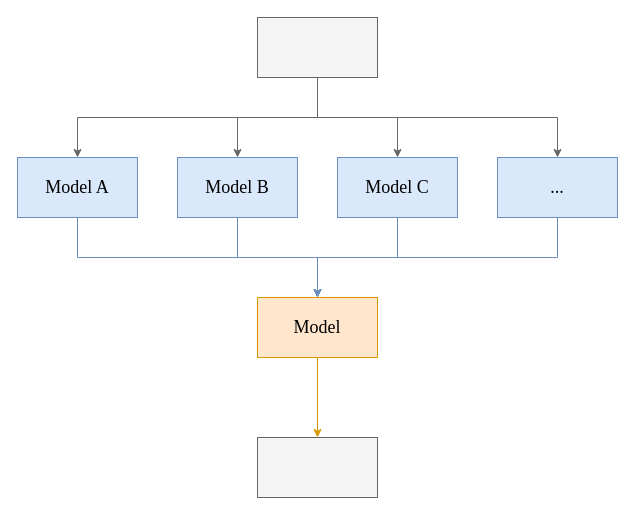
Image size: 635x515. Some labels were removed from this diagram. The shapes that lost their labels are listed below. From the top down, each one's box as (x1, y1, x2, y2) in pixels, then its label:
(256, 16, 378, 78): Input (X)
(256, 436, 378, 498): Output (Y)
